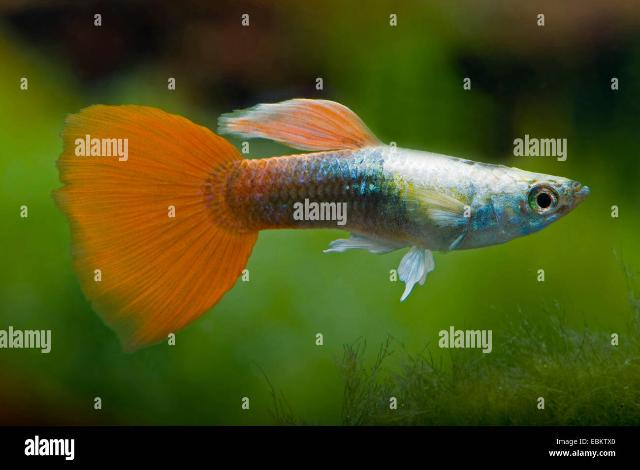Mulut: (510, 164, 614, 228)
Sirip Anal: (311, 215, 411, 269)
Sirip Dada: (400, 175, 476, 235)
Sirip Ekor: (36, 92, 272, 372)
Sirip Perut: (386, 235, 444, 307)
Sirip Punggung: (208, 80, 392, 172)
